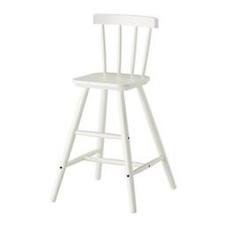chair: (11, 8, 208, 217)
